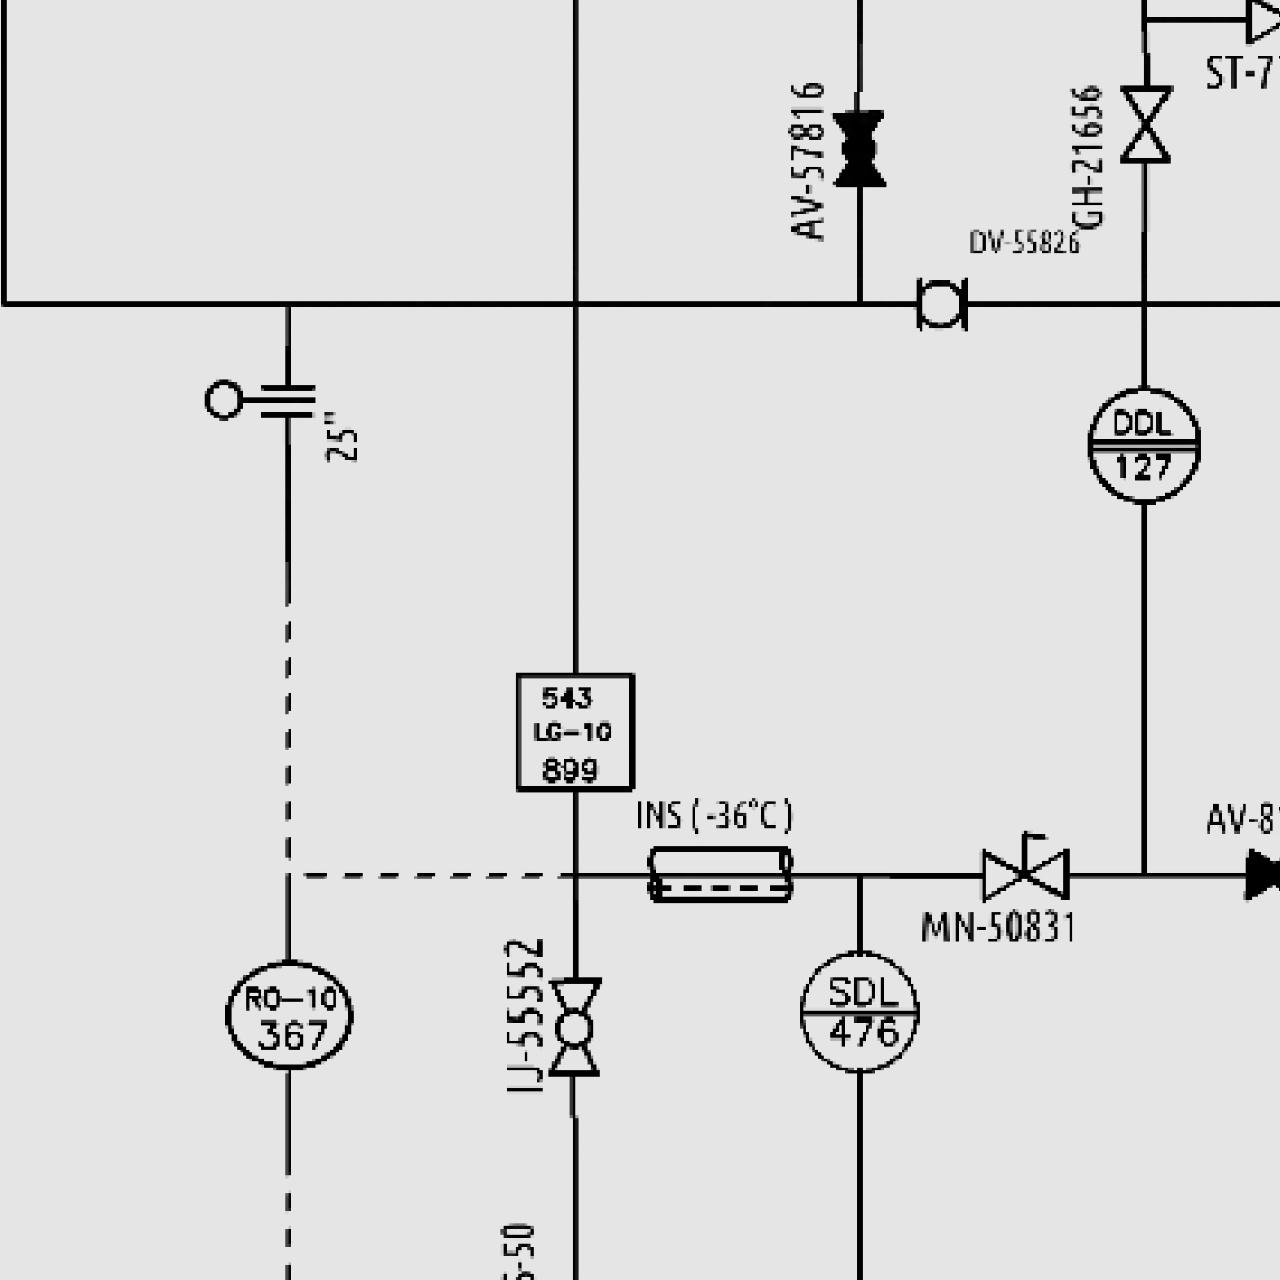Control-Panel: (220, 947, 356, 1082), (1081, 381, 1206, 508)
